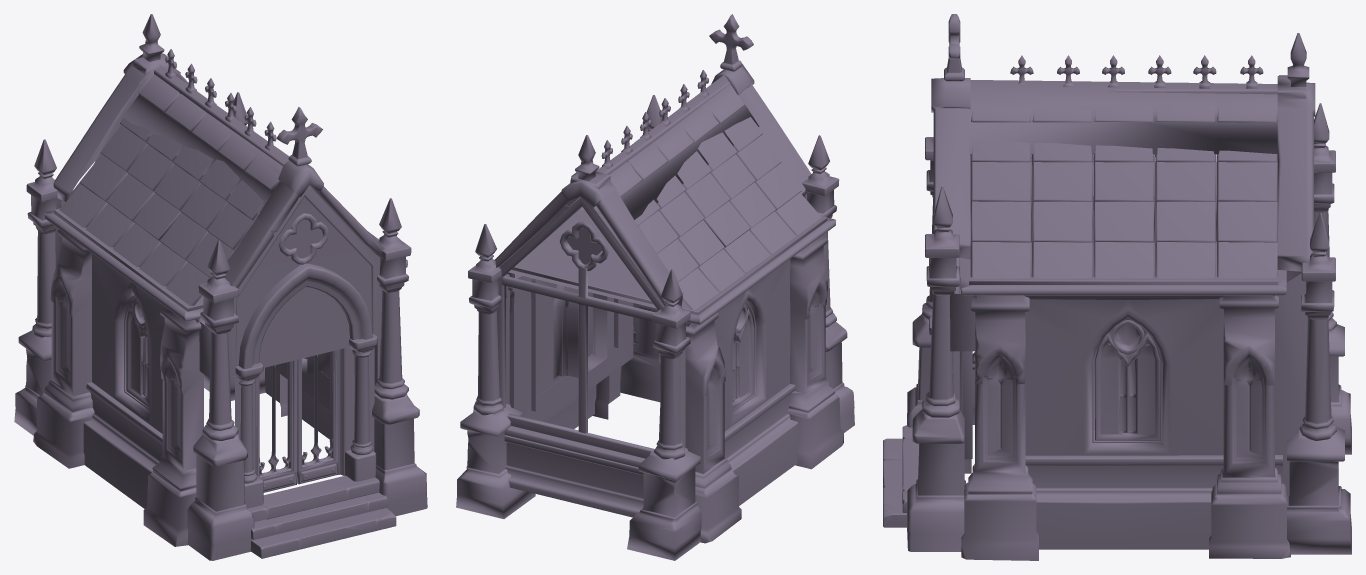
The model's file is gothic_mausoleum.glb.
3 renders of one model, left to right at view 1: azimuth 30°, elevation 25°; view 2: azimuth 150°, elevation 25°; view 3: azimuth 270°, elevation 25°, orthographic. The views are drawn at different scales.
Visible parts, largest first — view 1: tripo_node_d121e030; view 2: tripo_node_d121e030; view 3: tripo_node_d121e030.
Boxes of the visible parts, x1,y1,x2,y2 form: tripo_node_d121e030: (14, 14, 427, 560); tripo_node_d121e030: (456, 14, 854, 560); tripo_node_d121e030: (883, 14, 1351, 560).
Size of the model in its own units: 0.6118 by 0.9995 by 0.8853.
